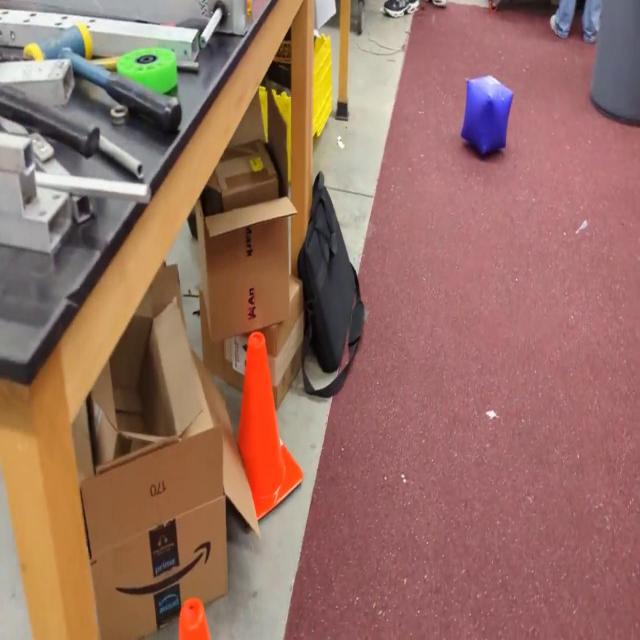frc_cube: (460, 75, 515, 157)
